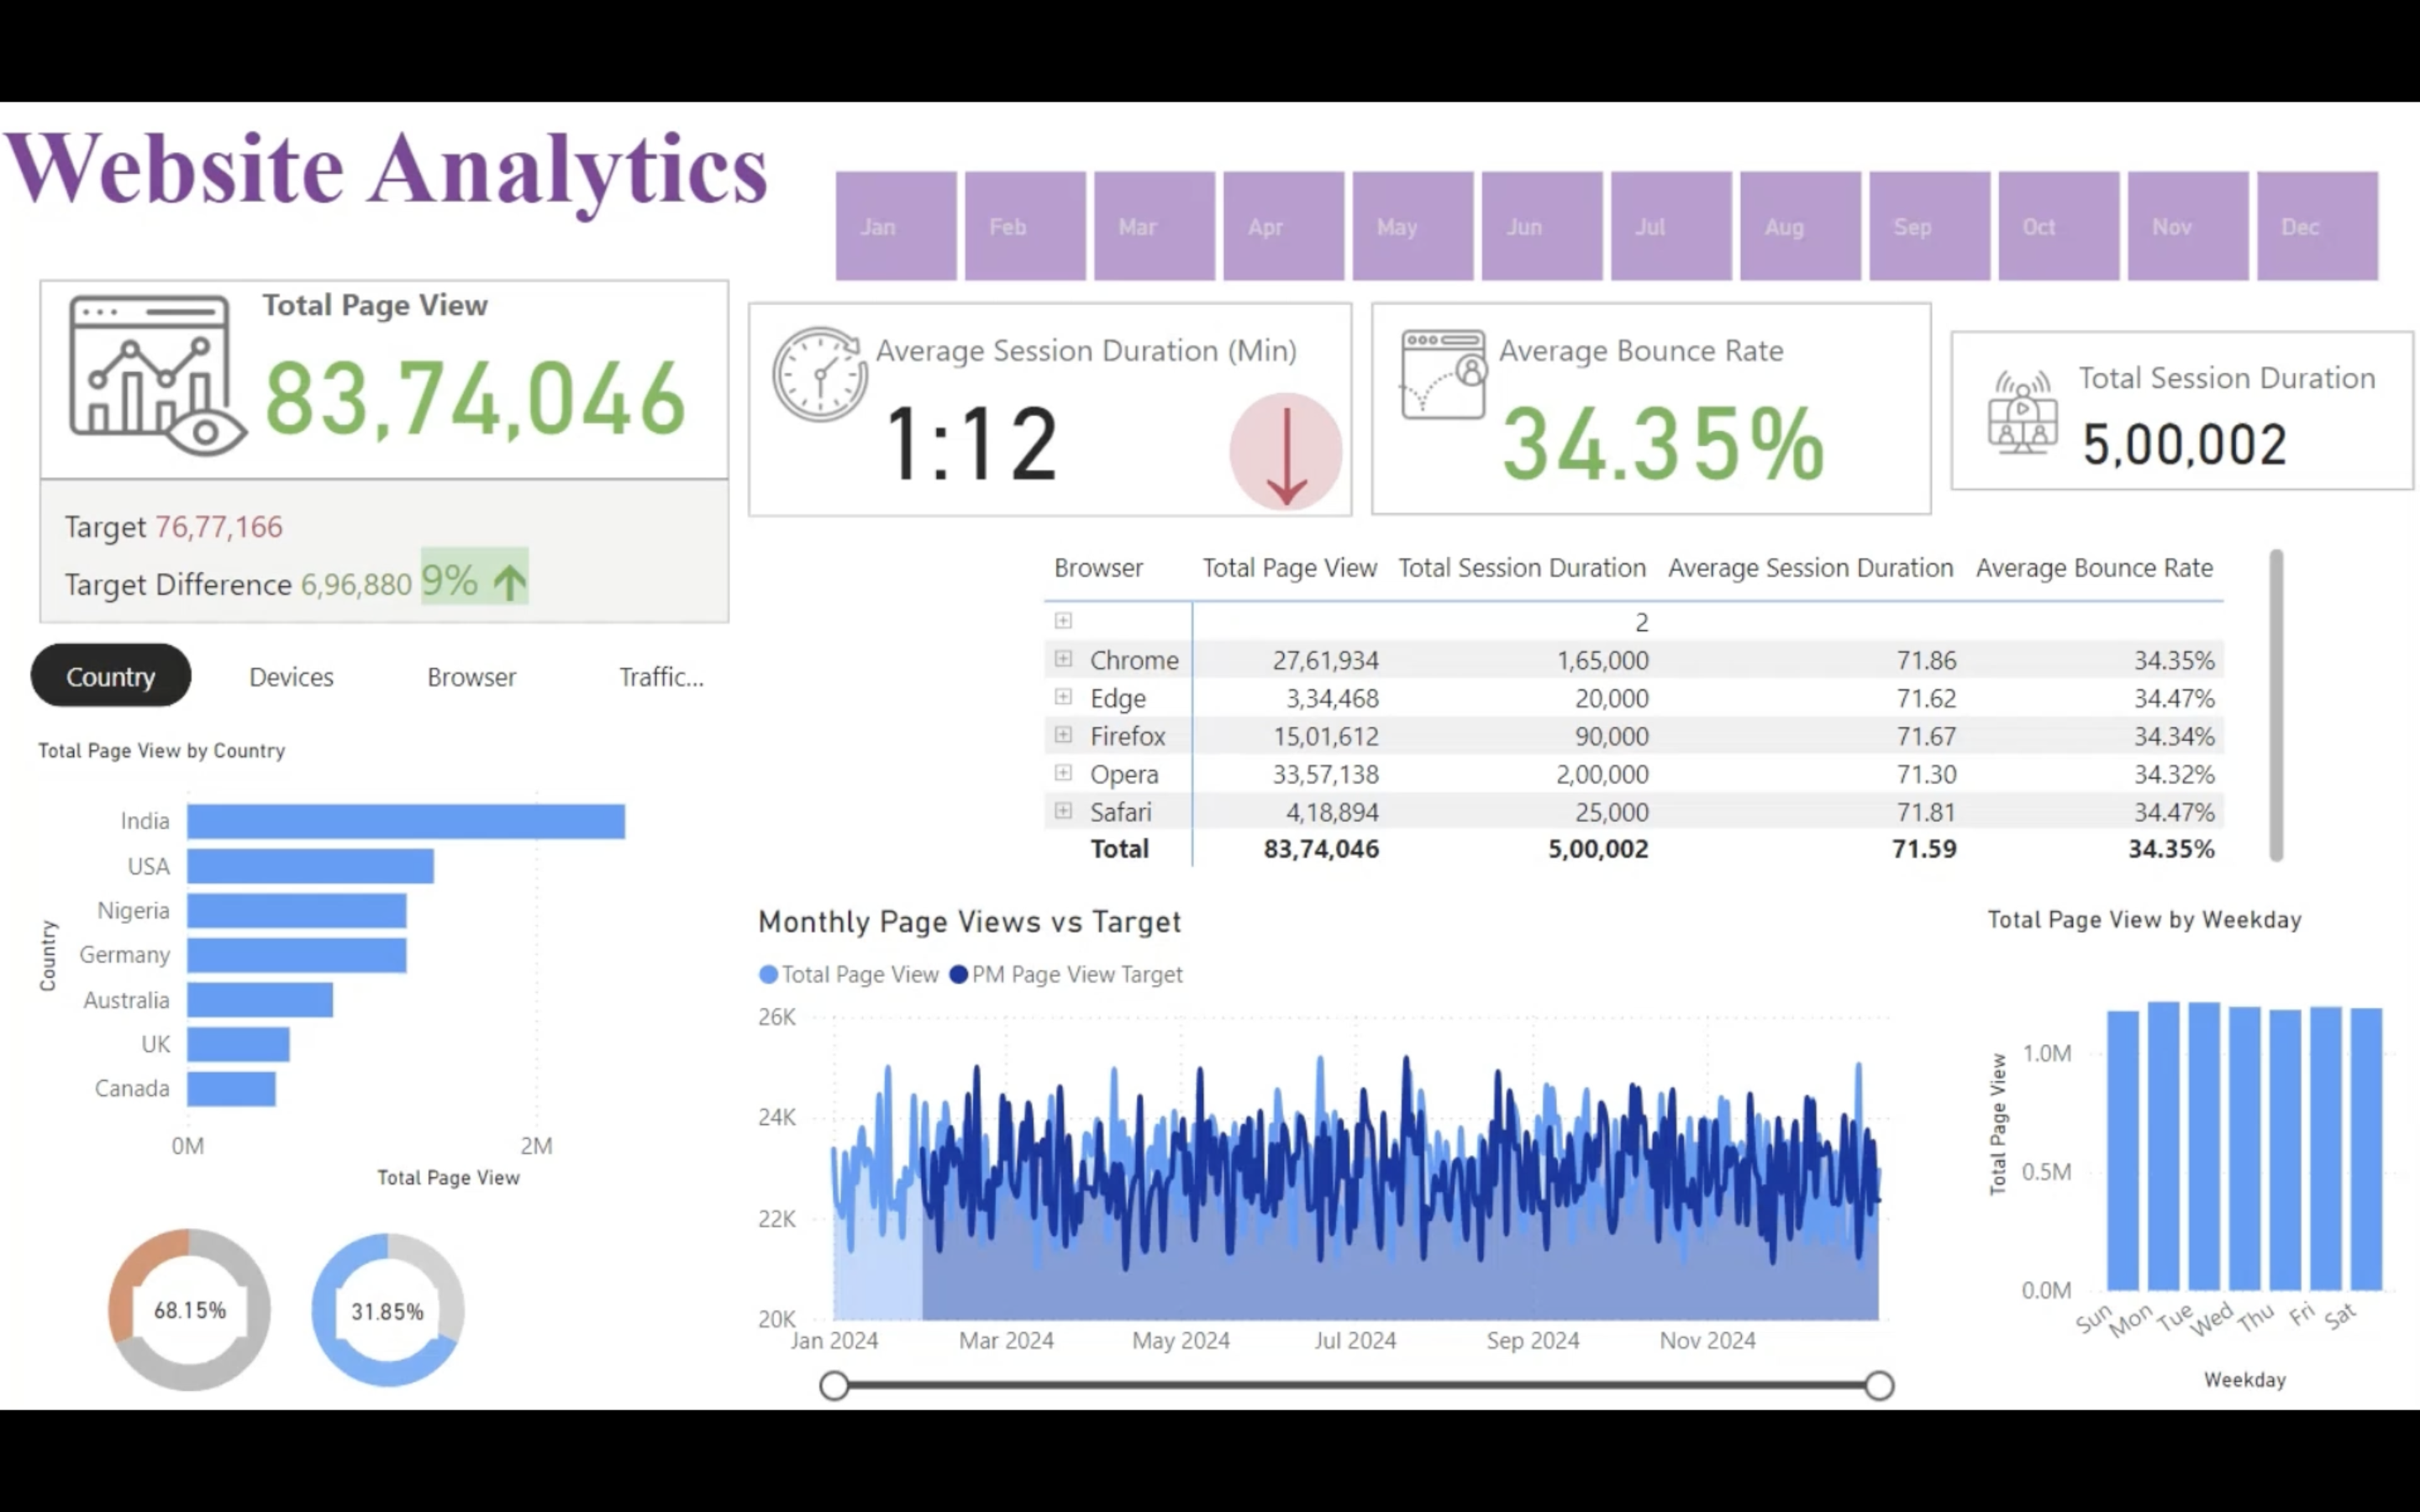

What the dashboard file says about the page in this screenshot:
{"tool":"powerbi","page":{"name":"Page 1","canvas":[1280,720],"ordinal":0},"visuals":[{"type":"cardVisual","fields":{"Data":["DAXTable.Total Page View"]},"box":[19.7,114.1,372.8,190.5],"z":0},{"type":"cardVisual","fields":{"Data":["DAXTable.FormattedSessions"]},"box":[392.5,126.5,328.5,122.4],"z":1000},{"type":"shape","box":[651.2,178.2,59.9,62.4],"z":2000},{"type":"card","fields":{"Values":["DAXTable.CF Session Arrow"]},"box":[660.2,156,42.7,87],"z":3000},{"type":"cardVisual","fields":{"Data":["DAXTable.Average Bounce Rate"]},"box":[721,124.8,305.5,118.2],"z":4000},{"type":"cardVisual","fields":{"Data":["DAXTable.Total Session Duration"]},"box":[1026.5,134.7,253.7,94.4],"z":5000},{"type":"clusteredBarChart","fields":{"Category":["website analytics dataset.Country","website analytics dataset.Device Type","website analytics dataset.Browser","website analytics dataset.Traffic Source"],"Y":["DAXTable.Total Page View"]},"box":[19.7,359.7,419.6,243.1],"z":6000},{"type":"bookmarkNavigator","box":[25.5,321.9,329.3,28.7],"z":7000},{"type":"donutChart","fields":{"Y":["DAXTable.Remaining Not Conversion","DAXTable.% Not Converted Session"]},"box":[25.5,602.7,157.7,117.4],"z":8000},{"type":"donutChart","fields":{"Y":["DAXTable.Remaining Conversion","DAXTable.% Converted Session"]},"box":[152.7,602.7,111.7,117.4],"z":9000},{"type":"card","fields":{"Values":["DAXTable.% Converted Session"]},"box":[73.9,648.7,59.9,27.1],"z":10000},{"type":"card","fields":{"Values":["DAXTable.% Not Converted Session"]},"box":[181.5,649.5,53.4,27.1],"z":11000},{"type":"pivotTable","fields":{"Rows":["website analytics dataset.Browser","website analytics dataset.Device Type","website analytics dataset.Country","website analytics dataset.Traffic Source"],"Values":["DAXTable.Total Page View","DAXTable.Total Session Duration","DAXTable.Average Session Duration","DAXTable.Average Bounce Rate"]},"box":[506.7,243.1,650.4,187.2],"z":12000},{"type":"advancedSlicerVisual","fields":{"Values":["DateTable.Month"]},"box":[439.3,57.5,832.7,67.3],"z":13000},{"type":"lineChart","title":"Monthly Page Views vs Target","fields":{"Category":["DateTable.Date Hierarchy.Date","DateTable.Date Hierarchy.Month"],"Y":["DAXTable.Total Page View","DAXTable.PM Page View Target"]},"box":[439.3,466.4,519.8,234.9],"z":14000},{"type":"columnChart","fields":{"Category":["DateTable.Weekday"],"Y":["DAXTable.Total Page View"]},"box":[997.7,439.3,206.1,255.4],"z":15000},{"type":"textbox","box":[0,25.5,439.3,78.8],"z":16000}]}

Visuals, with their boxes on the page's 1280x720 design canvas (x1, y1, x2, y2). These are canvas units, not pixel positions in the 2420x1512 screenshot, which may show the page scaled, cropped or inside an application window:
cardVisual - DAXTable.Total Page View: select_region(20, 114, 392, 305)
cardVisual - DAXTable.FormattedSessions: select_region(392, 126, 721, 249)
shape: select_region(651, 178, 711, 241)
card - DAXTable.CF Session Arrow: select_region(660, 156, 703, 243)
cardVisual - DAXTable.Average Bounce Rate: select_region(721, 125, 1026, 243)
cardVisual - DAXTable.Total Session Duration: select_region(1026, 135, 1280, 229)
clusteredBarChart - website analytics dataset.Country x website analytics dataset.Device Type: select_region(20, 360, 439, 603)
bookmarkNavigator: select_region(26, 322, 355, 351)
donutChart - DAXTable.Remaining Not Conversion x DAXTable.% Not Converted Session: select_region(26, 603, 183, 720)
donutChart - DAXTable.Remaining Conversion x DAXTable.% Converted Session: select_region(153, 603, 264, 720)
card - DAXTable.% Converted Session: select_region(74, 649, 134, 676)
card - DAXTable.% Not Converted Session: select_region(182, 650, 235, 677)
pivotTable - website analytics dataset.Browser x website analytics dataset.Device Type: select_region(507, 243, 1157, 430)
advancedSlicerVisual - DateTable.Month: select_region(439, 58, 1272, 125)
"Monthly Page Views vs Target" lineChart: select_region(439, 466, 959, 701)
columnChart - DateTable.Weekday x DAXTable.Total Page View: select_region(998, 439, 1204, 695)
textbox: select_region(0, 26, 439, 104)
